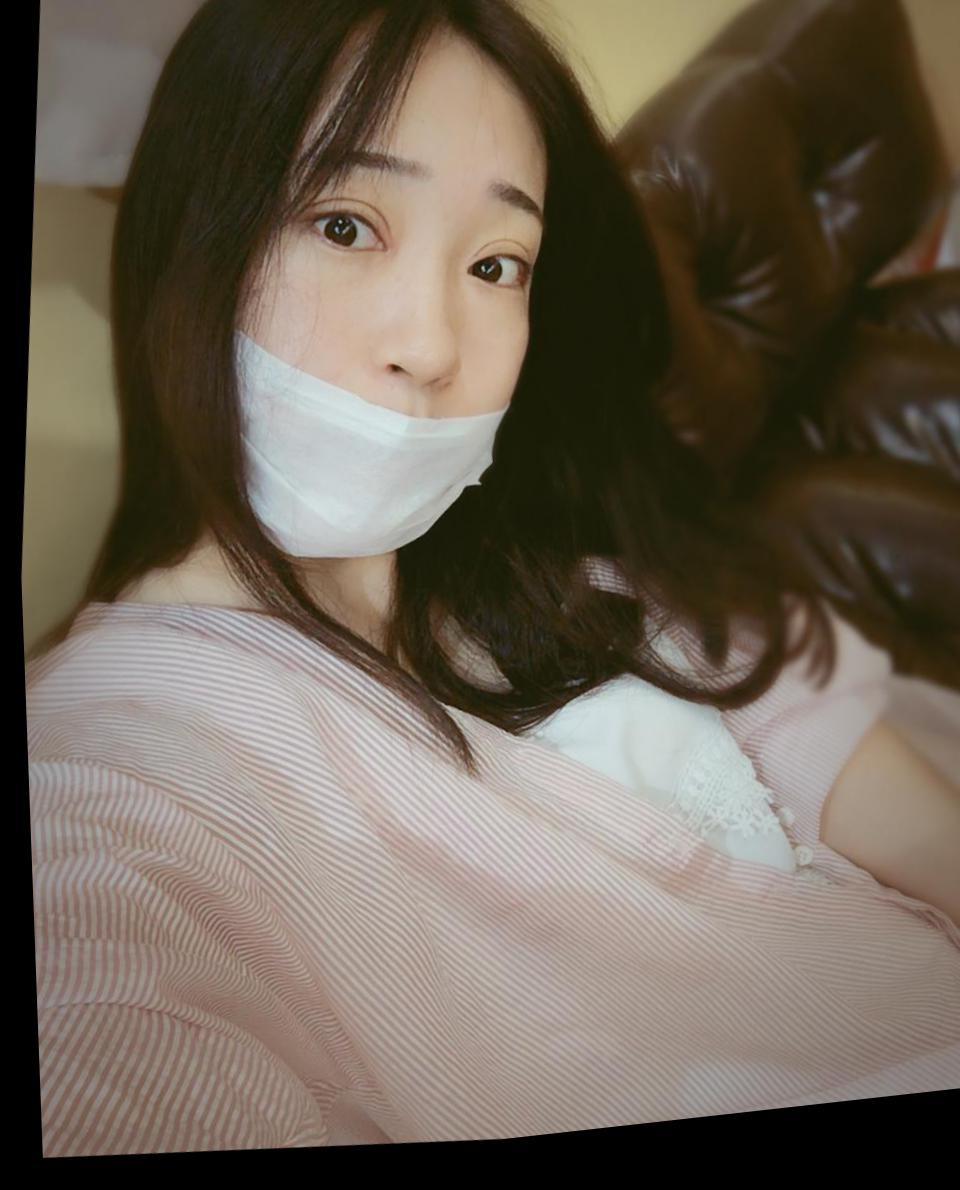WRONG: (163, 93, 571, 607)
